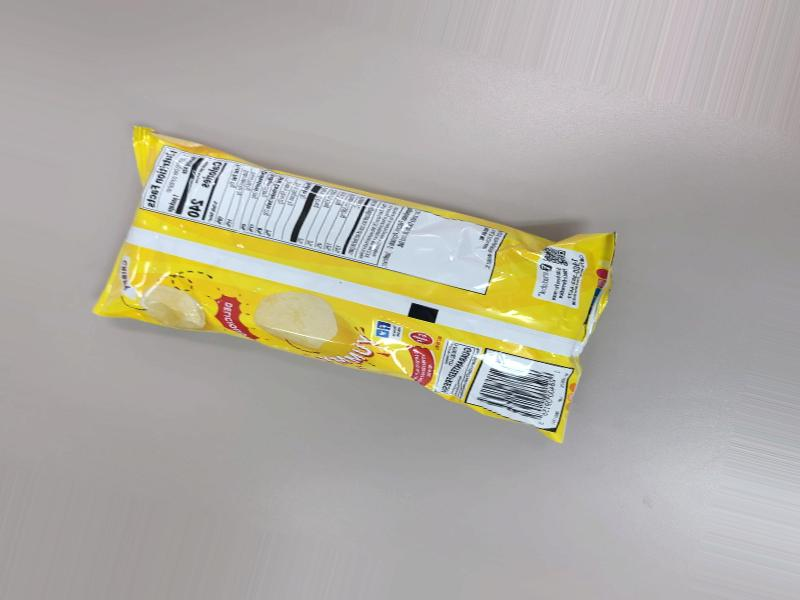lays: (112, 134, 556, 400)
